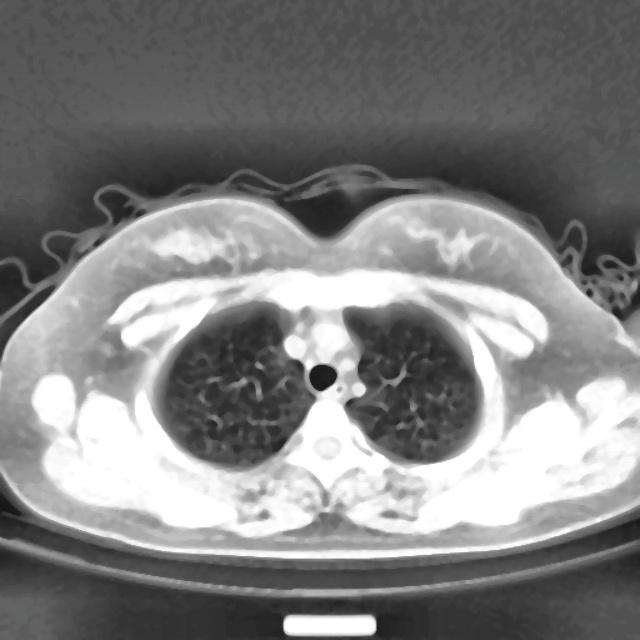covid: (1, 166, 639, 563)
